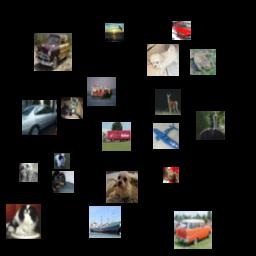airplane: (153, 123, 179, 149)
automobile: (34, 33, 72, 71), (174, 211, 212, 249), (22, 100, 57, 135), (172, 21, 191, 40)
bird: (196, 111, 225, 140), (105, 23, 124, 42)
cat: (61, 97, 83, 119), (19, 163, 38, 182), (163, 167, 179, 183)
deer: (155, 89, 181, 115)
dog: (6, 204, 41, 239), (106, 171, 138, 203), (147, 44, 179, 76), (52, 171, 74, 193), (54, 153, 70, 169)
frog: (190, 49, 216, 75)
ship: (89, 206, 121, 238), (87, 77, 116, 106)
truck: (102, 122, 131, 151)
